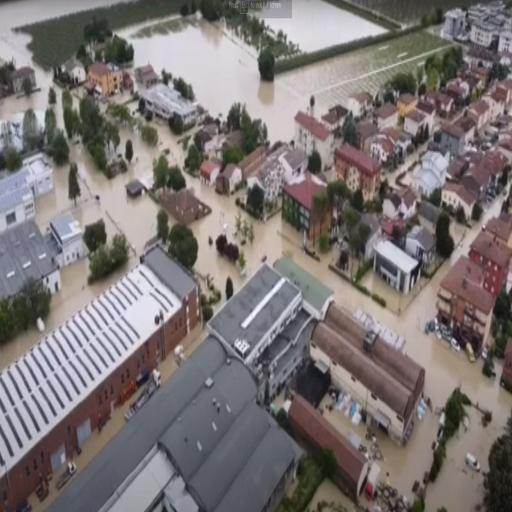flood: (241, 211, 512, 511), (131, 0, 443, 140), (35, 122, 184, 255), (0, 0, 114, 126), (231, 0, 387, 50), (185, 173, 241, 298), (388, 142, 428, 184), (483, 193, 506, 223), (55, 84, 63, 127)
house: (0, 234, 201, 509), (310, 294, 428, 448), (209, 259, 305, 393), (288, 390, 370, 501), (435, 254, 496, 346), (0, 152, 54, 229), (281, 177, 334, 245), (139, 80, 200, 134), (336, 141, 383, 204), (374, 238, 422, 296), (246, 156, 284, 219), (473, 225, 512, 286), (294, 109, 332, 169), (50, 209, 88, 264), (407, 219, 439, 270), (442, 179, 476, 223), (408, 164, 438, 198), (10, 65, 37, 96), (198, 154, 220, 190), (470, 14, 494, 47), (87, 63, 110, 97), (424, 148, 448, 180), (222, 162, 243, 195), (442, 122, 465, 152), (445, 8, 466, 36), (66, 55, 85, 84), (378, 102, 399, 128), (400, 90, 418, 118), (471, 98, 489, 126), (137, 63, 159, 85), (497, 27, 512, 52), (110, 68, 122, 90)
